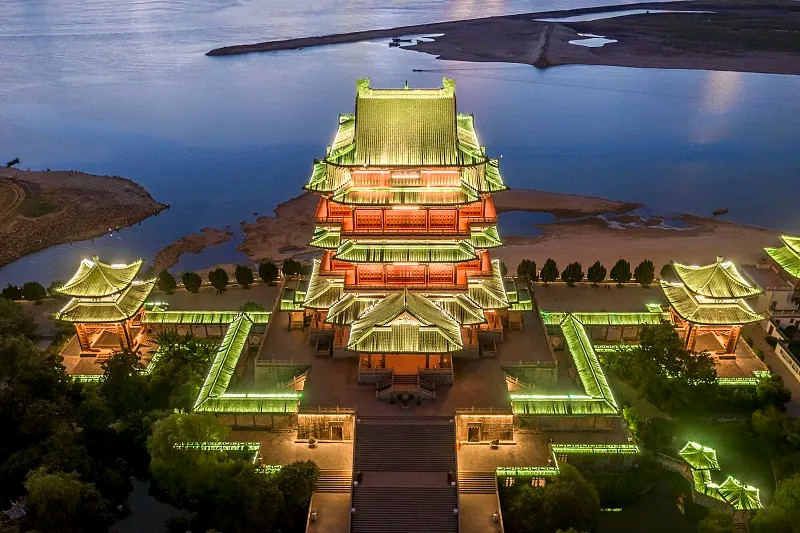Teng: (279, 74, 534, 375)
